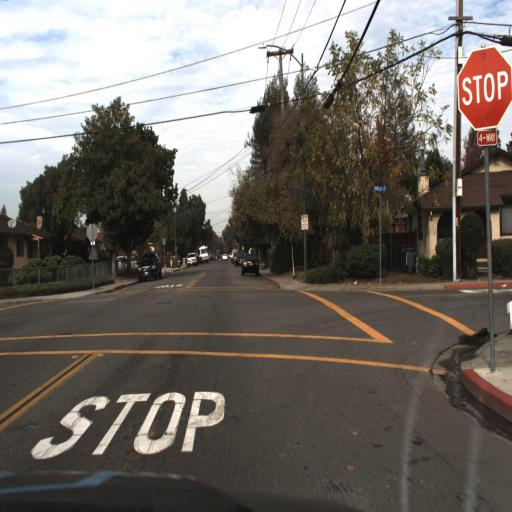car: (131, 247, 163, 285), (132, 249, 163, 284), (238, 250, 260, 281), (238, 248, 260, 278), (184, 251, 198, 270)
